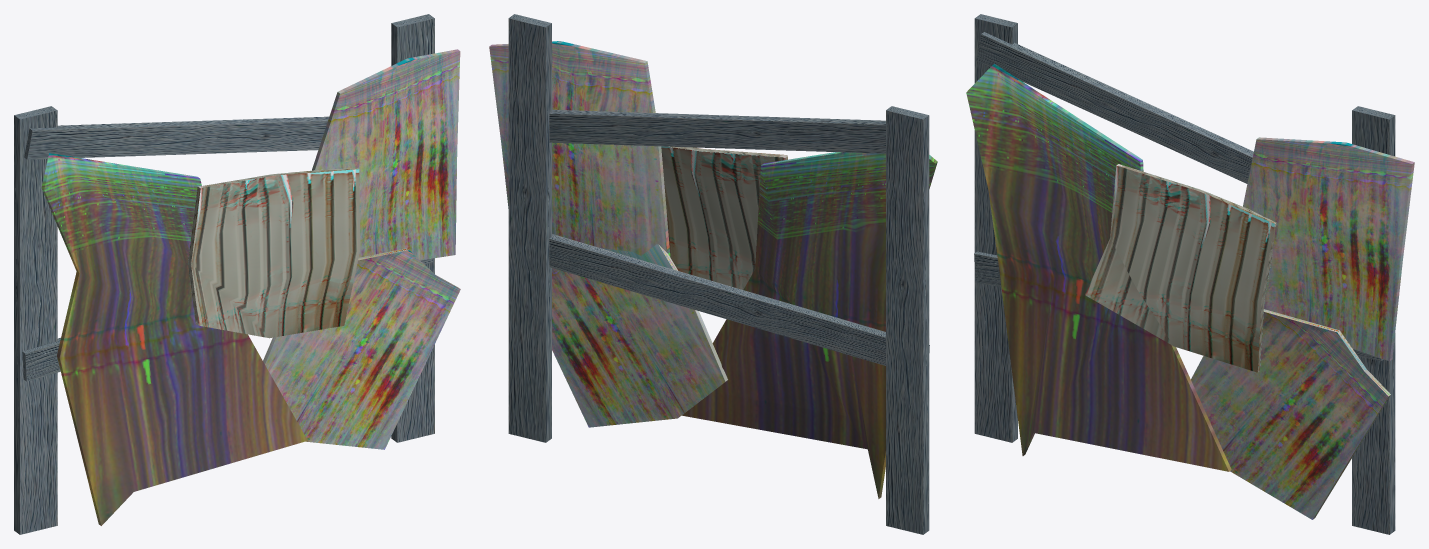
The model's file is Wall4.FBX.
3 views of the same model, side by side, from view 1: azimuth 30°, elevation 25°; view 2: azimuth 150°, elevation 25°; view 3: azimuth 330°, elevation 25° (orthographic).
Visible parts, largest first — view 1: SheetMetal (×4), Board (×4); view 2: SheetMetal (×4), Board (×4); view 3: SheetMetal (×4), Board (×4).
Boxes of the visible parts, bbox=[...] form: SheetMetal (×4): bbox=[41, 49, 460, 525]; Board (×4): bbox=[14, 14, 434, 534]; SheetMetal (×4): bbox=[489, 41, 937, 498]; Board (×4): bbox=[508, 14, 929, 534]; SheetMetal (×4): bbox=[966, 64, 1414, 519]; Board (×4): bbox=[974, 14, 1395, 534].
Bounding box in the file's own units: 2.01 × 1.81 × 0.3194.
